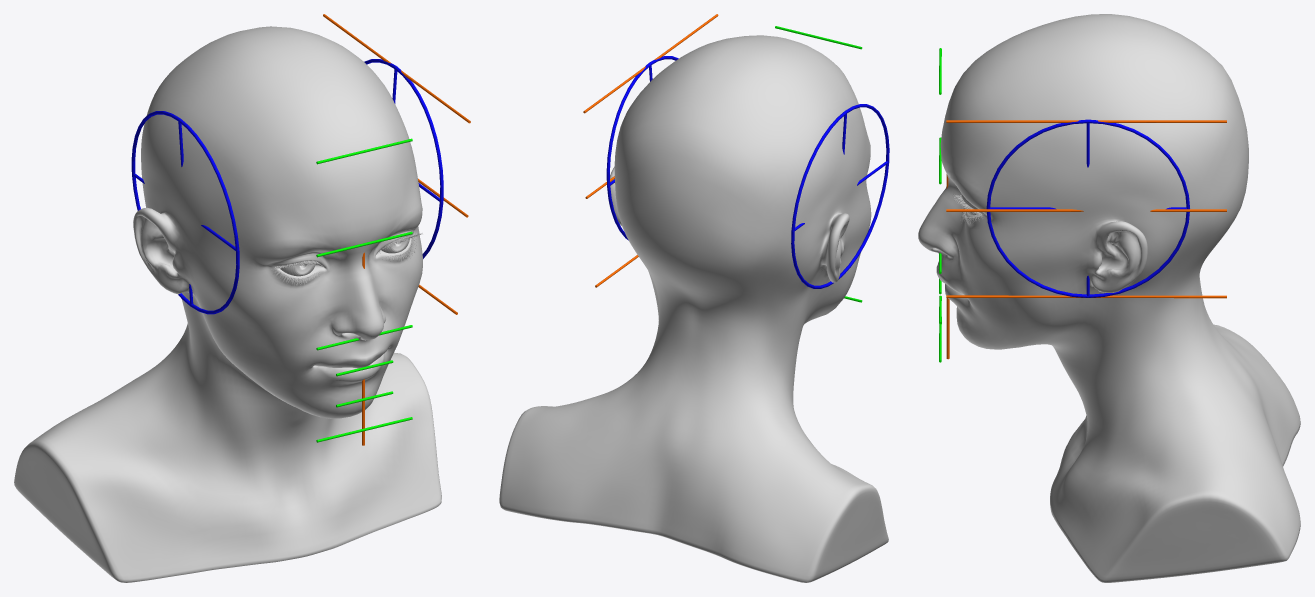
The model's file is european_female_head_high_poly.glb.
3 views of the same model, side by side, from view 1: azimuth 30°, elevation 25°; view 2: azimuth 150°, elevation 25°; view 3: azimuth 270°, elevation 25° (orthographic). The views are drawn at different scales.
Visible parts, largest first — view 1: Model.001, Right_Side_Plane_Guide, Left_Side_Plane_Guide, Eyelashes.001; view 2: Model.001, Right_Side_Plane_Guide, Left_Side_Plane_Guide; view 3: Model.001, Left_Side_Plane_Guide, Side_Plane_Horizontal_Bottom_Guide, Side_Plane_Horizontal_Top_Guide, Side_Plane_Horizontal_Middle_Guide.
Part boxes in pixels (x1,y1,x2,y2): Model.001: (14, 26, 441, 582); Right_Side_Plane_Guide: (131, 111, 239, 314); Left_Side_Plane_Guide: (364, 59, 443, 258); Eyelashes.001: (272, 233, 422, 286); Model.001: (499, 35, 888, 582); Right_Side_Plane_Guide: (791, 104, 889, 288); Left_Side_Plane_Guide: (606, 56, 678, 240); Model.001: (918, 14, 1300, 582); Left_Side_Plane_Guide: (986, 119, 1189, 297); Side_Plane_Horizontal_Bottom_Guide: (946, 295, 1226, 298); Side_Plane_Horizontal_Top_Guide: (946, 120, 1226, 122); Side_Plane_Horizontal_Middle_Guide: (946, 209, 1226, 211).
Bounding box in the file's own units: 8.11 × 10.64 × 7.63.
